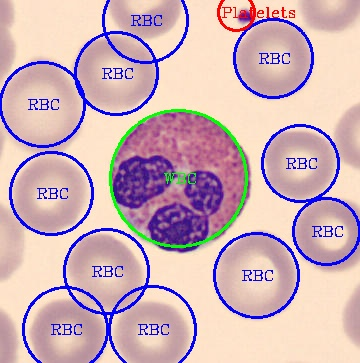Platelets: (231, 5, 258, 28)
RBC: (0, 54, 84, 157), (214, 229, 297, 324), (69, 32, 159, 113), (232, 17, 315, 101), (65, 230, 145, 310), (12, 154, 89, 235), (292, 194, 359, 275), (262, 126, 335, 199), (28, 296, 108, 361), (112, 298, 190, 361), (104, 0, 185, 39)
WBC: (106, 110, 253, 257)
